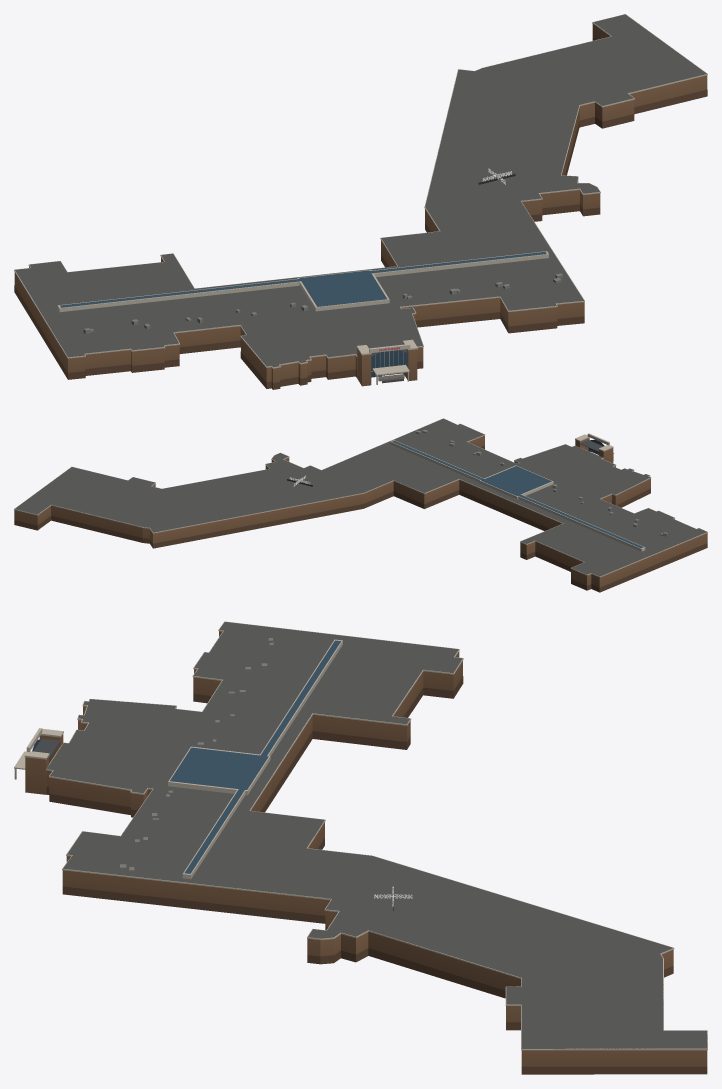
The model's file is northpark.glb.
The picture shows the model from 3 angles, top to bottom: view 1: azimuth 30°, elevation 25°; view 2: azimuth 150°, elevation 25°; view 3: azimuth 270°, elevation 25°; orthographic projection. The views are drawn at different scales.
Parts seen in each view (by area): view 1: northpark_lod0; view 2: northpark_lod0; view 3: northpark_lod0.
Part boxes in pixels (x1,y1,x2,y2): northpark_lod0: [14, 14, 707, 389]; northpark_lod0: [14, 418, 707, 592]; northpark_lod0: [14, 621, 707, 1074].
Size of what is drawn, in the model's own units: 466 by 21 by 320.
